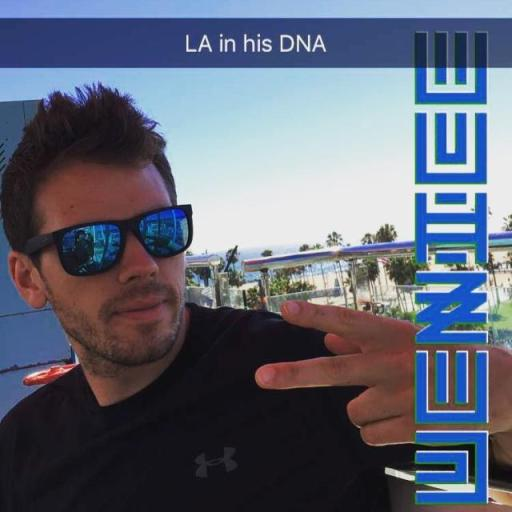Under Armour: (191, 444, 239, 480)
